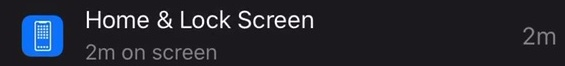name: (80, 2, 320, 34)
time: (82, 39, 120, 66)
